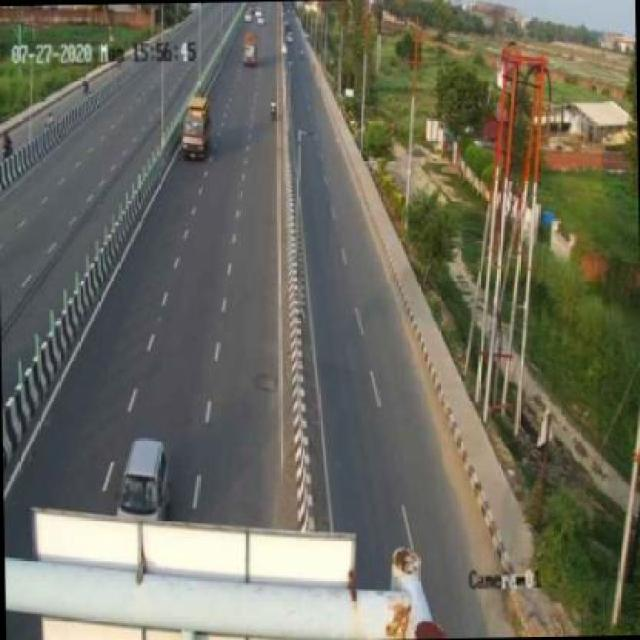car: (114, 422, 177, 523)
